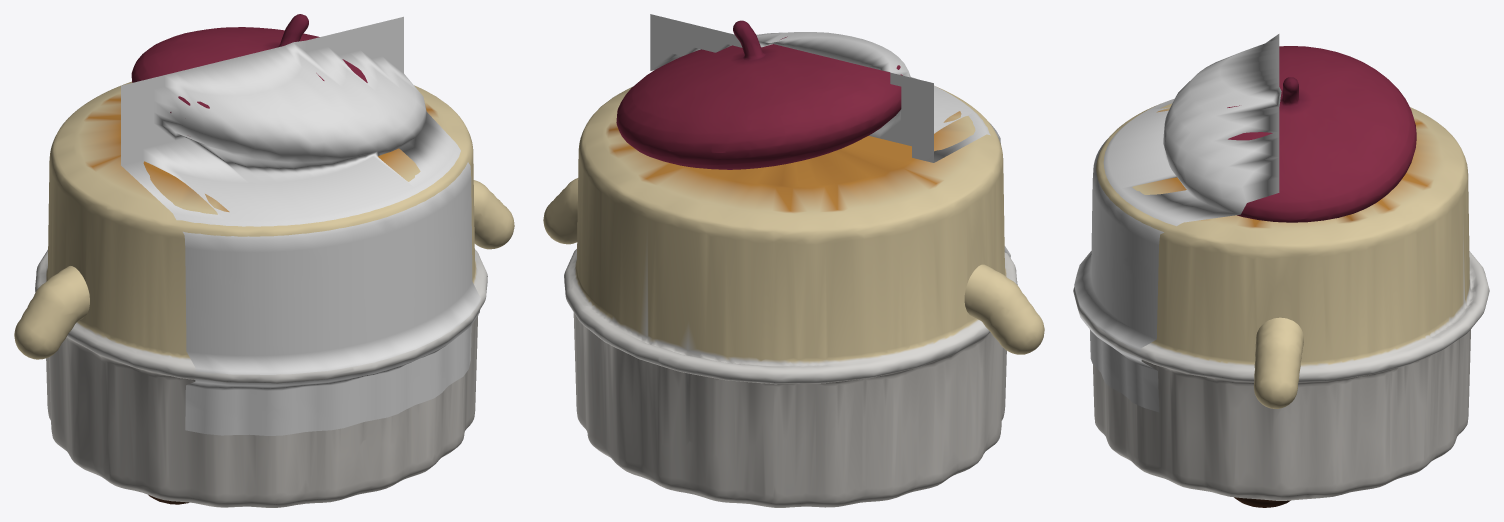
Rendered from folk2_brulee.glb.
The picture shows the model from 3 angles, left to right: view 1: azimuth 30°, elevation 25°; view 2: azimuth 150°, elevation 25°; view 3: azimuth 270°, elevation 25°; orthographic projection. The views are drawn at different scales.
Parts seen in each view (by area): view 1: brulee_face, brulee_body, brulee_arm_l, brulee_arm_r; view 2: brulee_body, brulee_face, brulee_arm_l, brulee_arm_r; view 3: brulee_body, brulee_face, brulee_arm_r.
Boxes of the visible parts, <box> form: brulee_face: <box>121,16,480,435</box>; brulee_body: <box>35,14,487,507</box>; brulee_arm_l: <box>14,266,89,359</box>; brulee_arm_r: <box>473,180,514,249</box>; brulee_body: <box>564,20,1017,507</box>; brulee_face: <box>650,14,1010,257</box>; brulee_arm_l: <box>964,264,1044,354</box>; brulee_arm_r: <box>543,178,578,244</box>; brulee_body: <box>1073,46,1489,500</box>; brulee_face: <box>1074,34,1281,412</box>; brulee_arm_r: <box>1253,317,1303,408</box>.
Size of the model in its own units: 1.25 by 1.06 by 0.9946.
